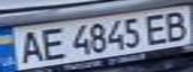4: (66, 20, 93, 56), (106, 17, 127, 52)
5: (121, 15, 148, 48)
8: (87, 20, 109, 54)
A: (12, 28, 48, 65)
B: (160, 8, 193, 43)
E: (139, 11, 175, 46), (36, 25, 69, 62)
